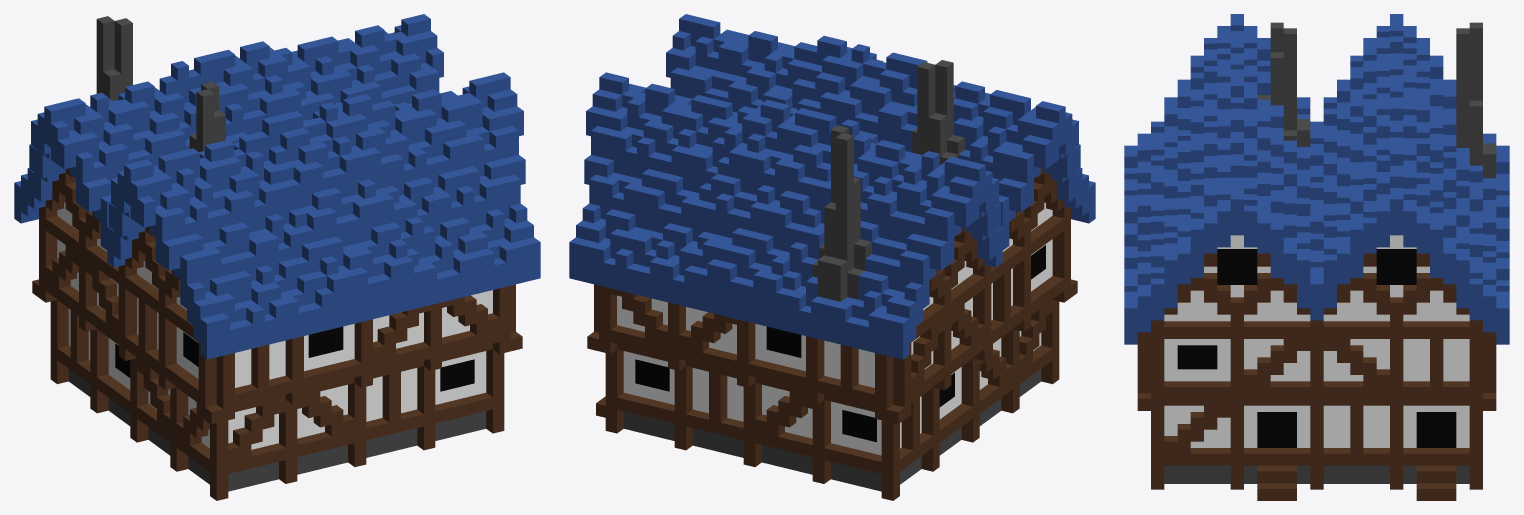
The model's file is house14.fbx.
The picture shows the model from 3 angles, left to right: view 1: azimuth 30°, elevation 25°; view 2: azimuth 150°, elevation 25°; view 3: azimuth 270°, elevation 25°; orthographic projection.
Visible parts, largest first — view 1: house1-17; view 2: house1-17; view 3: house1-17.
Boxes of the visible parts, x1,y1,x2,y2 form: house1-17: [14, 14, 540, 500]; house1-17: [569, 14, 1095, 500]; house1-17: [1124, 14, 1509, 500].
Size of the model in its own units: 3300 by 2900 by 2900.
